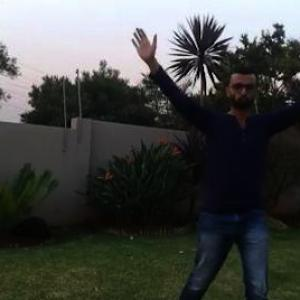takeoff: (119, 36, 299, 299)
